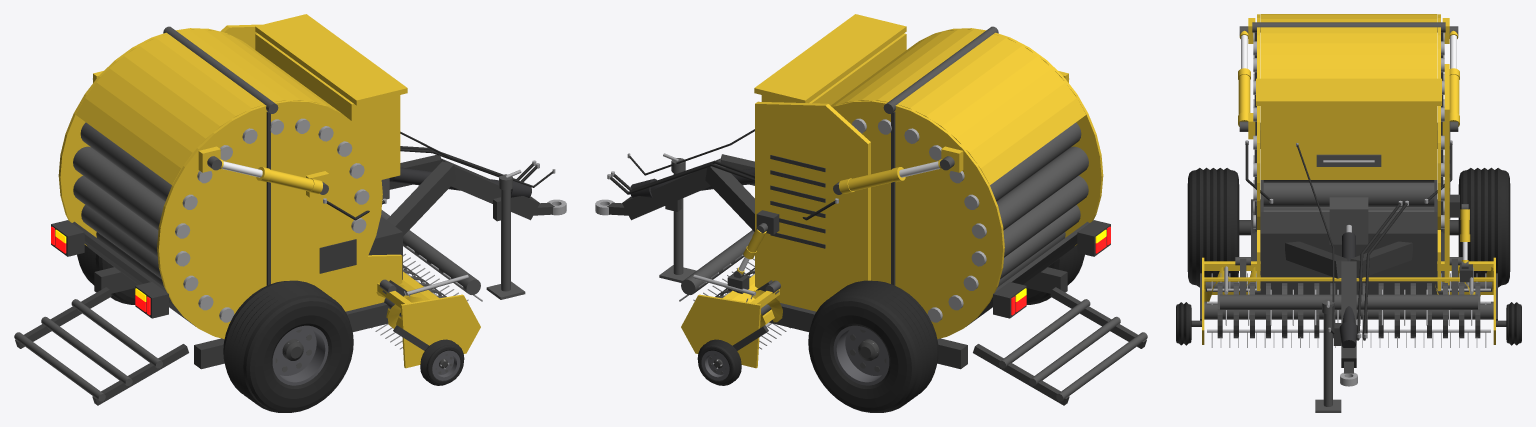
The model's file is round_baler.glb.
3 views of the same model, side by side, from view 1: azimuth 30°, elevation 25°; view 2: azimuth 150°, elevation 25°; view 3: azimuth 270°, elevation 25° (orthographic). The views are drawn at different scales.
Parts seen in each view (by area): view 1: chassis, tailgate_tilt, wheel_right_spin, pickup_tilt, pickup_gauge_wheel_right_spin, wheel_left_spin, tailgate_cylinder_right_rotate, tailgate_cylinder_right_rod_slide; view 2: chassis, tailgate_tilt, wheel_left_spin, pickup_tilt, pickup_gauge_wheel_left_spin, wheel_right_spin, tailgate_cylinder_left_rotate, tailgate_cylinder_left_rod_slide; view 3: chassis, pickup_tilt, wheel_right_spin, wheel_left_spin, tailgate_tilt, tailgate_cylinder_right_rotate, tailgate_cylinder_left_rotate, pickup_gauge_wheel_right_spin, pickup_gauge_wheel_left_spin, pickup_lift_cylinder_rotate, tailgate_cylinder_right_rod_slide, tailgate_cylinder_left_rod_slide.
Boxes of the visible parts, box(x1,y1,x2,y2) form: chassis: box(14, 14, 566, 405); tailgate_tilt: box(51, 26, 278, 338); wheel_right_spin: box(223, 280, 353, 412); pickup_tilt: box(371, 210, 482, 368); pickup_gauge_wheel_right_spin: box(420, 339, 464, 385); wheel_left_spin: box(77, 245, 135, 304); tailgate_cylinder_right_rotate: box(256, 167, 328, 194); tailgate_cylinder_right_rod_slide: box(207, 156, 262, 177); chassis: box(595, 14, 1147, 405); tailgate_tilt: box(883, 26, 1110, 338); wheel_left_spin: box(808, 280, 938, 412); pickup_tilt: box(679, 230, 790, 368); pickup_gauge_wheel_left_spin: box(697, 339, 741, 385); wheel_right_spin: box(1026, 245, 1084, 304); tailgate_cylinder_left_rotate: box(833, 167, 905, 194); tailgate_cylinder_left_rod_slide: box(899, 156, 954, 177); chassis: box(1239, 27, 1459, 412); pickup_tilt: box(1191, 257, 1506, 347); wheel_right_spin: box(1187, 167, 1239, 287); wheel_left_spin: box(1458, 167, 1510, 287); tailgate_tilt: box(1248, 14, 1449, 233); tailgate_cylinder_right_rotate: box(1238, 68, 1250, 131); tailgate_cylinder_left_rotate: box(1449, 68, 1459, 131); pickup_gauge_wheel_right_spin: box(1176, 302, 1191, 345); pickup_gauge_wheel_left_spin: box(1506, 302, 1521, 345); pickup_lift_cylinder_rotate: box(1460, 204, 1470, 241); tailgate_cylinder_right_rod_slide: box(1239, 26, 1248, 68); tailgate_cylinder_left_rod_slide: box(1449, 26, 1458, 68).
Size of the model in its own units: 4.19 by 2.24 by 2.68.
11 materials, 11 textured.
